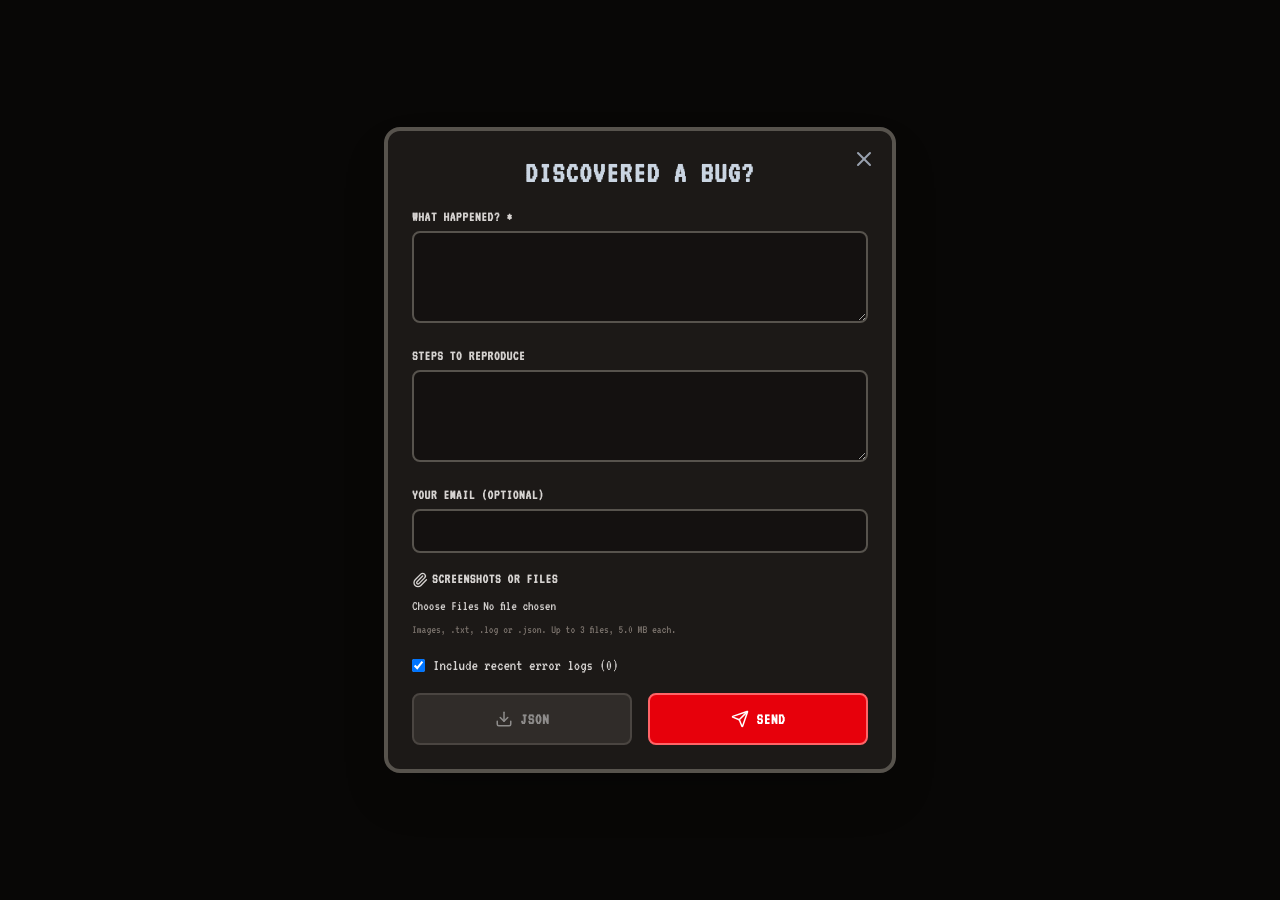
Test: BugReportModal › shows the mailto hint after a mailto send
The image size is (1280, 900).
In the text box labelled "What happened? *": [640, 277] box top-left (412, 231), bottom-right (868, 323), type "Boss never dies"
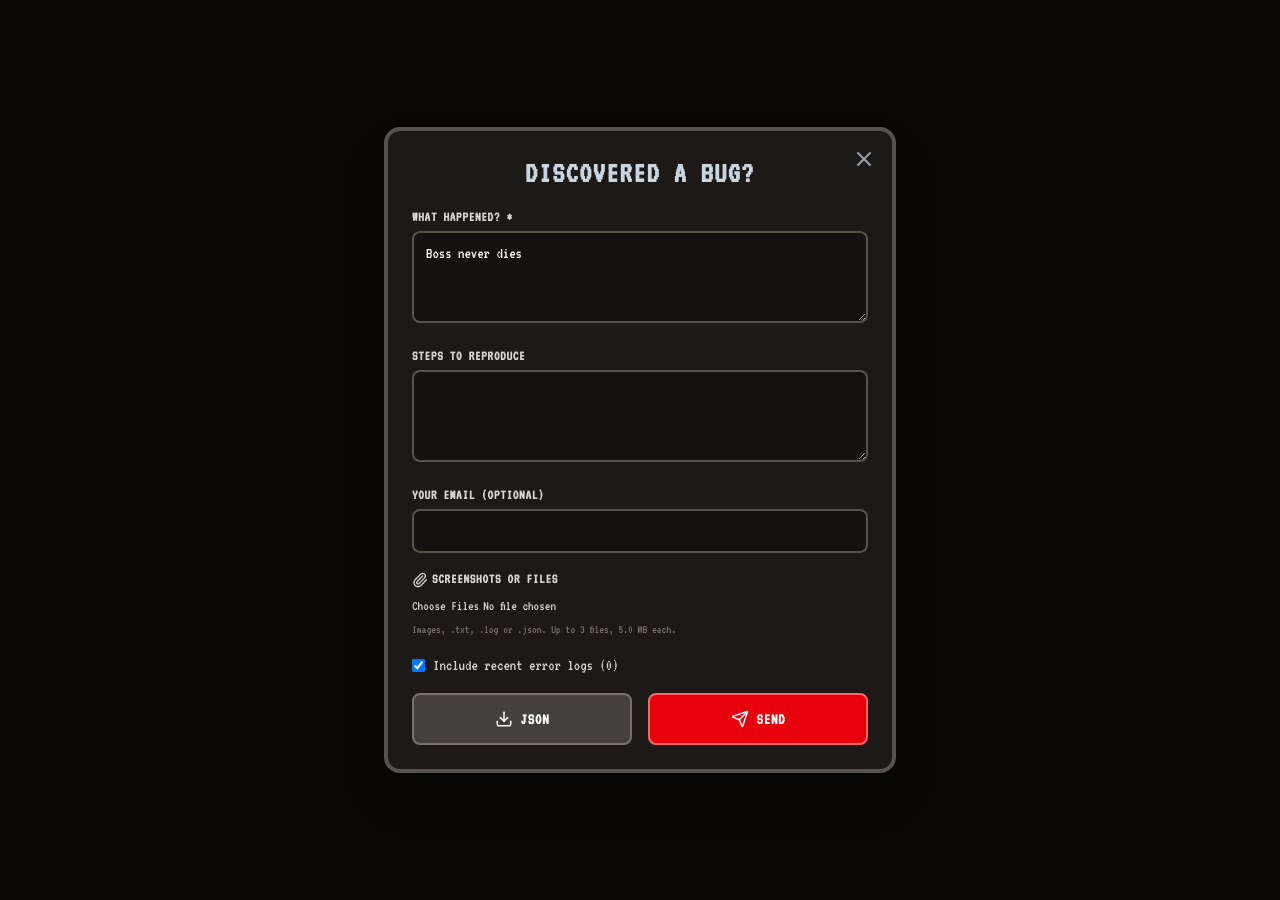
Click the button "Send": [758, 719] box top-left (648, 693), bottom-right (868, 745)
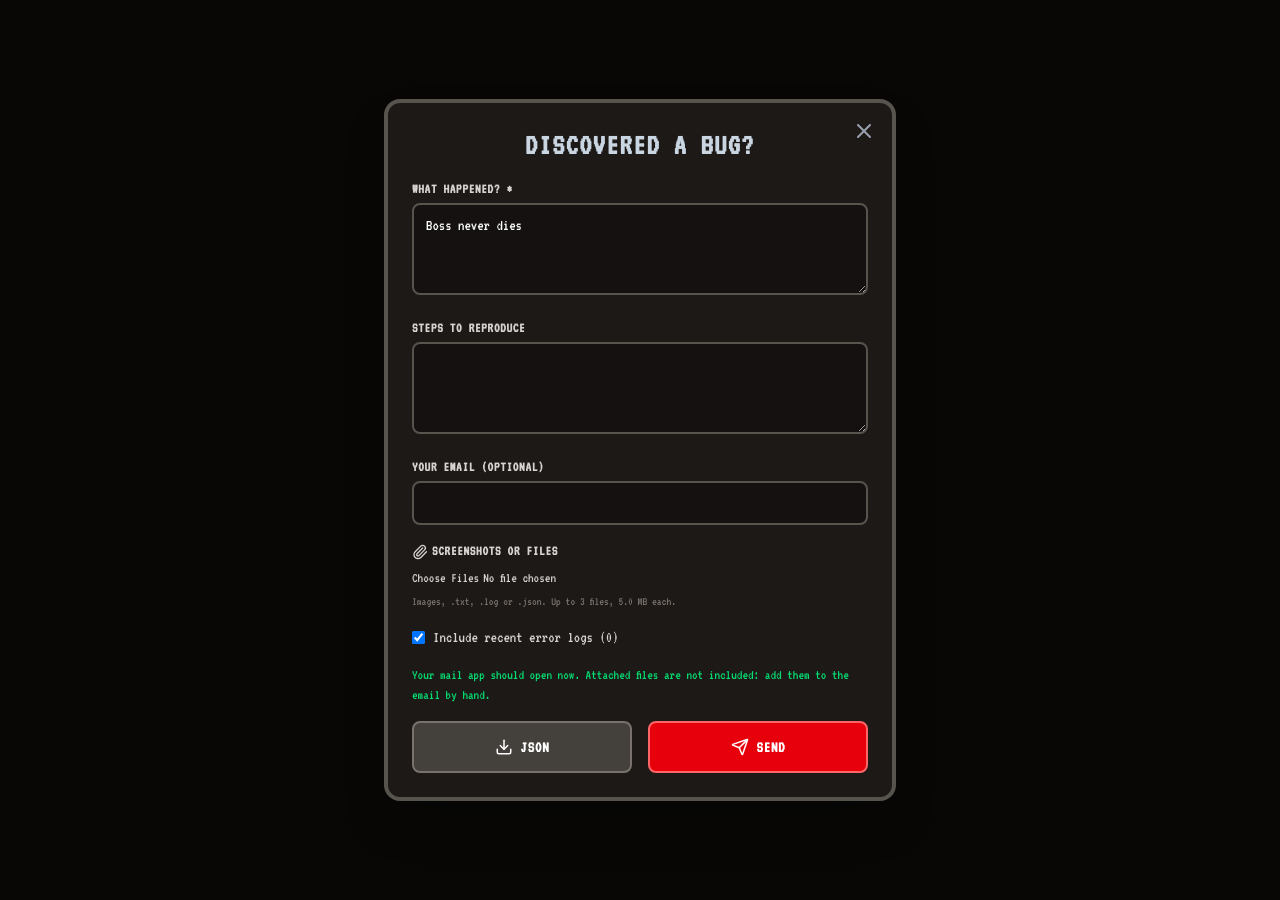
Check: the message shows "mail app should open", box top-left (412, 668), bottom-right (849, 702)
